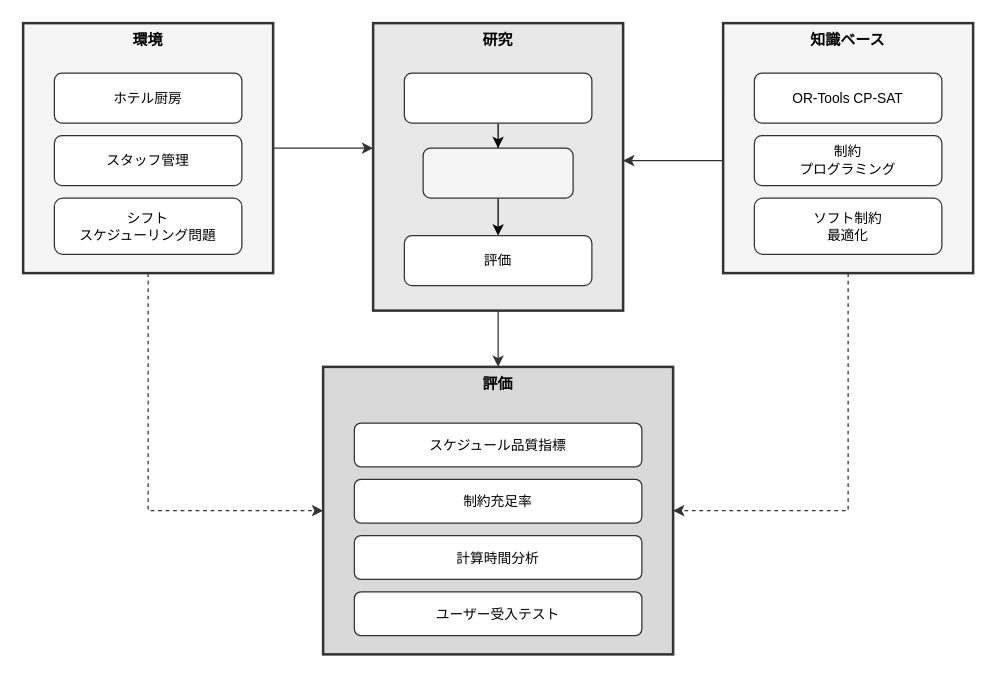
Some shapes in this 995 by 676 pixel diagram are drawn without their labels. The centre of each missing label's shape, as x and y in pixels:
"スケジュール 最適化システム" belongs at (497,172).
"開発" belongs at (497,97).
